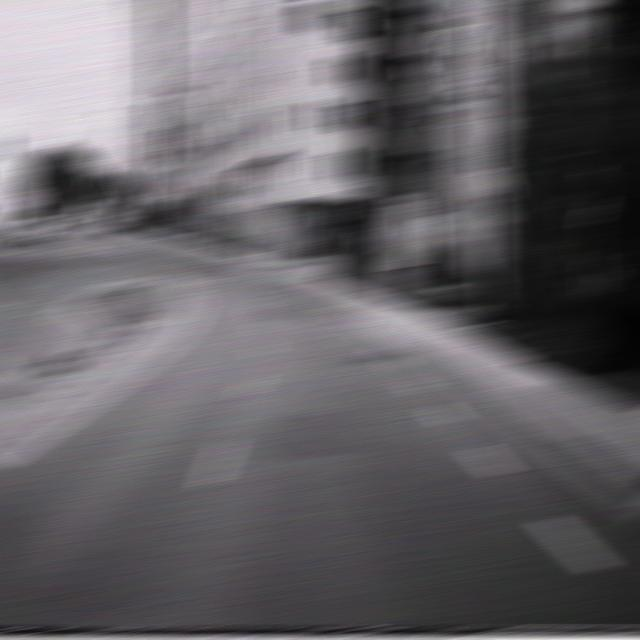stop: (138, 197, 164, 220), (322, 202, 346, 223)
